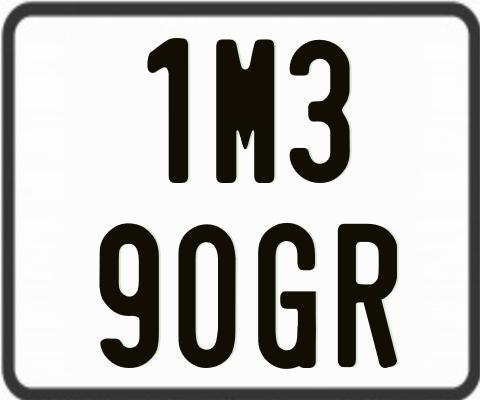0: (175, 221, 236, 369)
1: (146, 35, 188, 185)
3: (289, 38, 349, 184)
9: (98, 222, 159, 371)
G: (255, 220, 316, 372)
M: (214, 39, 272, 186)
R: (336, 223, 400, 372)
